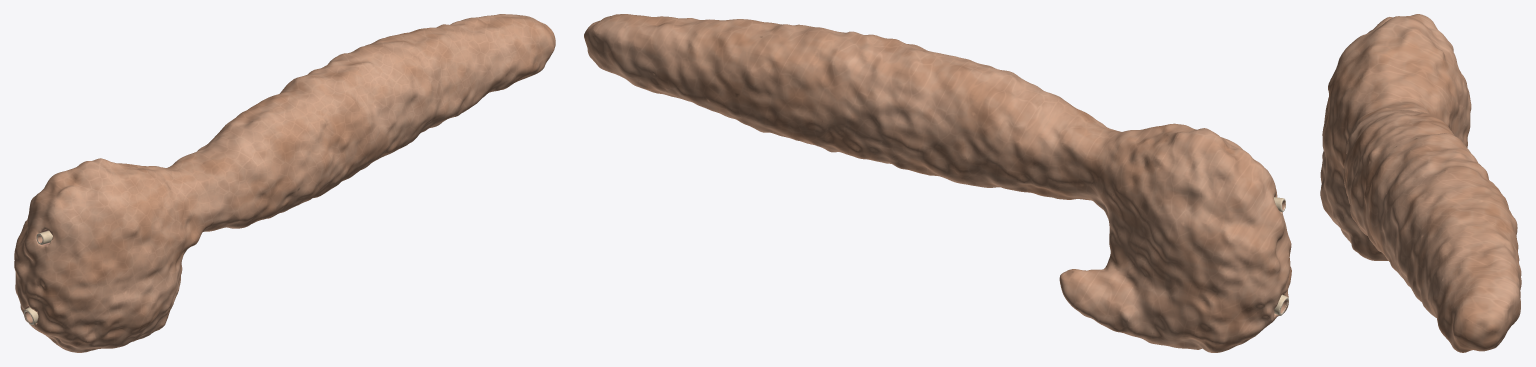
File: whole.glb
3 views of the same model, side by side, from view 1: azimuth 30°, elevation 25°; view 2: azimuth 150°, elevation 25°; view 3: azimuth 270°, elevation 25° (orthographic). The views are drawn at different scales.
Parts seen in each view (by area): view 1: PA_Parenchyma; view 2: PA_Parenchyma; view 3: PA_Parenchyma.
Boxes of the visible parts, left/top/right/bottom form: PA_Parenchyma: left=14, top=14, right=555, bottom=352; PA_Parenchyma: left=584, top=14, right=1291, bottom=352; PA_Parenchyma: left=1320, top=14, right=1521, bottom=352.
Bounding box in the file's own units: 0.1529 × 0.0541 × 0.0384.
6 materials, 6 textured.
